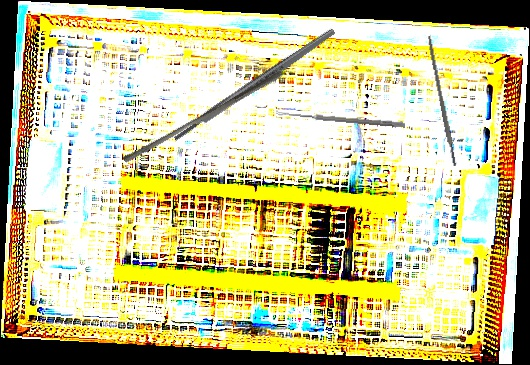Pusher: (122, 64, 284, 169)
Scalpel Handle: (171, 26, 338, 144), (425, 35, 458, 167)
Surgical Spoon: (275, 110, 406, 128)
